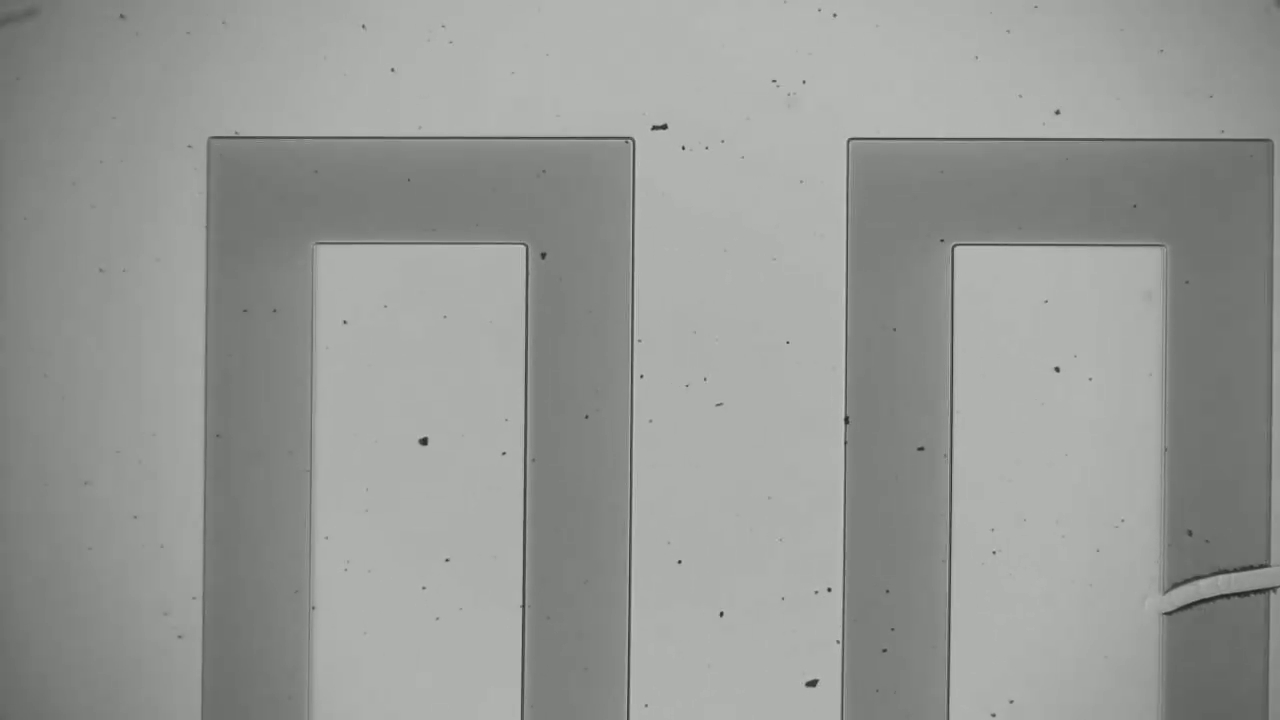Short_circuit: (1121, 526, 1280, 638)
